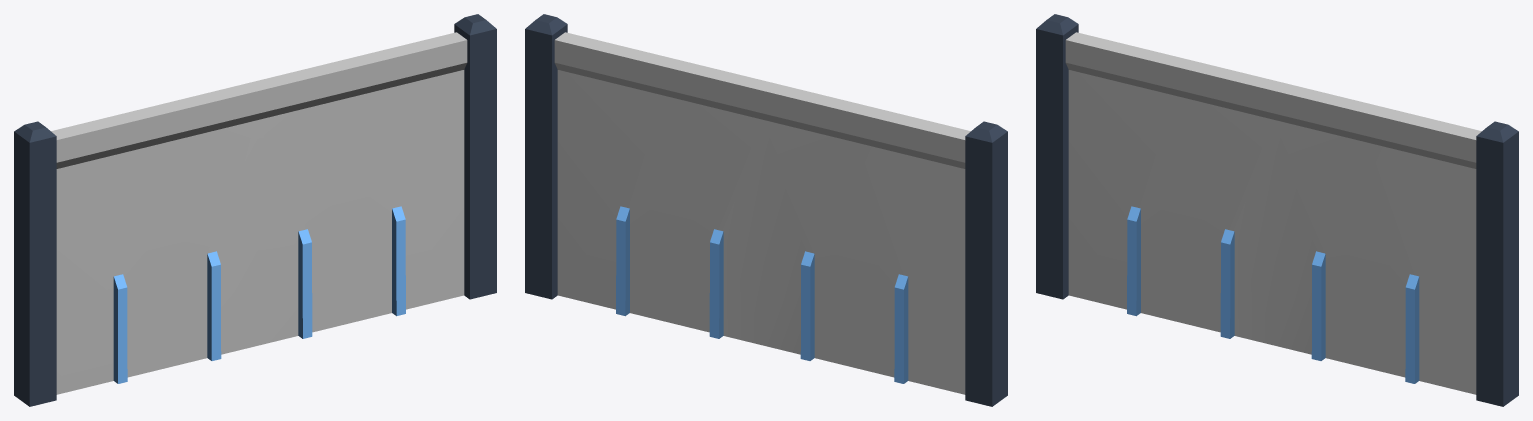
The model's file is Wall1.fbx.
3 views of the same model, side by side, from view 1: azimuth 30°, elevation 25°; view 2: azimuth 150°, elevation 25°; view 3: azimuth 330°, elevation 25° (orthographic).
Visible parts, largest first — view 1: wall3; view 2: wall3; view 3: wall3.
Boxes of the visible parts, bbox=[...] form: wall3: bbox=[14, 14, 496, 406]; wall3: bbox=[525, 14, 1007, 406]; wall3: bbox=[1036, 14, 1518, 406].
Bounding box in the file's own units: 6.91 × 3.84 × 0.4.
